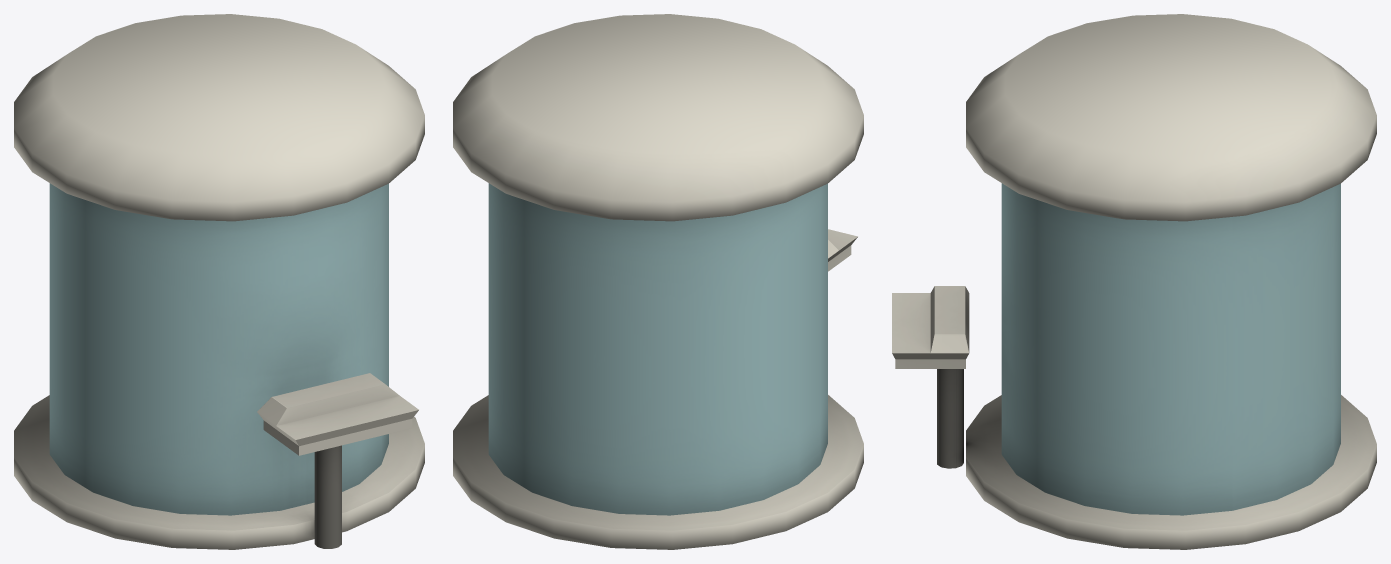
Rendered from ExperimentTube.fbx.
The picture shows the model from 3 angles, left to right: view 1: azimuth 30°, elevation 25°; view 2: azimuth 150°, elevation 25°; view 3: azimuth 270°, elevation 25°; orthographic projection.
Parts seen in each view (by area): view 1: Cylinder, Cylinder.002, Cylinder.001, Cube, Cylinder.003; view 2: Cylinder, Cylinder.002, Cylinder.001, Cube; view 3: Cylinder, Cylinder.002, Cylinder.001, Cube, Cylinder.003.
Boxes of the visible parts, x1=… form: Cylinder: x1=49, y1=183, x2=388, y2=515; Cylinder.002: x1=14, y1=14, x2=424, y2=221; Cylinder.001: x1=14, y1=395, x2=424, y2=549; Cube: x1=257, y1=373, x2=418, y2=455; Cylinder.003: x1=314, y1=445, x2=341, y2=548; Cylinder: x1=488, y1=183, x2=827, y2=515; Cylinder.002: x1=453, y1=14, x2=863, y2=221; Cylinder.001: x1=453, y1=395, x2=863, y2=549; Cube: x1=828, y1=229, x2=857, y2=271; Cylinder: x1=1001, y1=183, x2=1340, y2=515; Cylinder.002: x1=966, y1=14, x2=1376, y2=221; Cylinder.001: x1=966, y1=395, x2=1376, y2=549; Cube: x1=892, y1=286, x2=969, y2=368; Cylinder.003: x1=937, y1=369, x2=963, y2=468.
Bounding box in the file's own units: 241 × 245 × 284.
